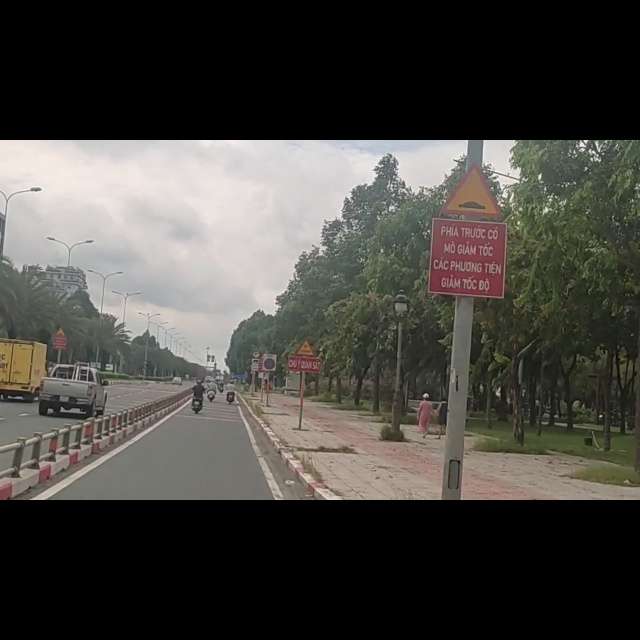bien_cam: (437, 37, 507, 140), (294, 353, 317, 386), (262, 378, 277, 412), (251, 376, 261, 388)
